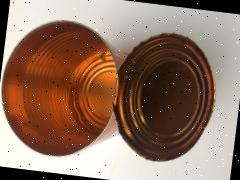metal: (0, 0, 235, 180)
